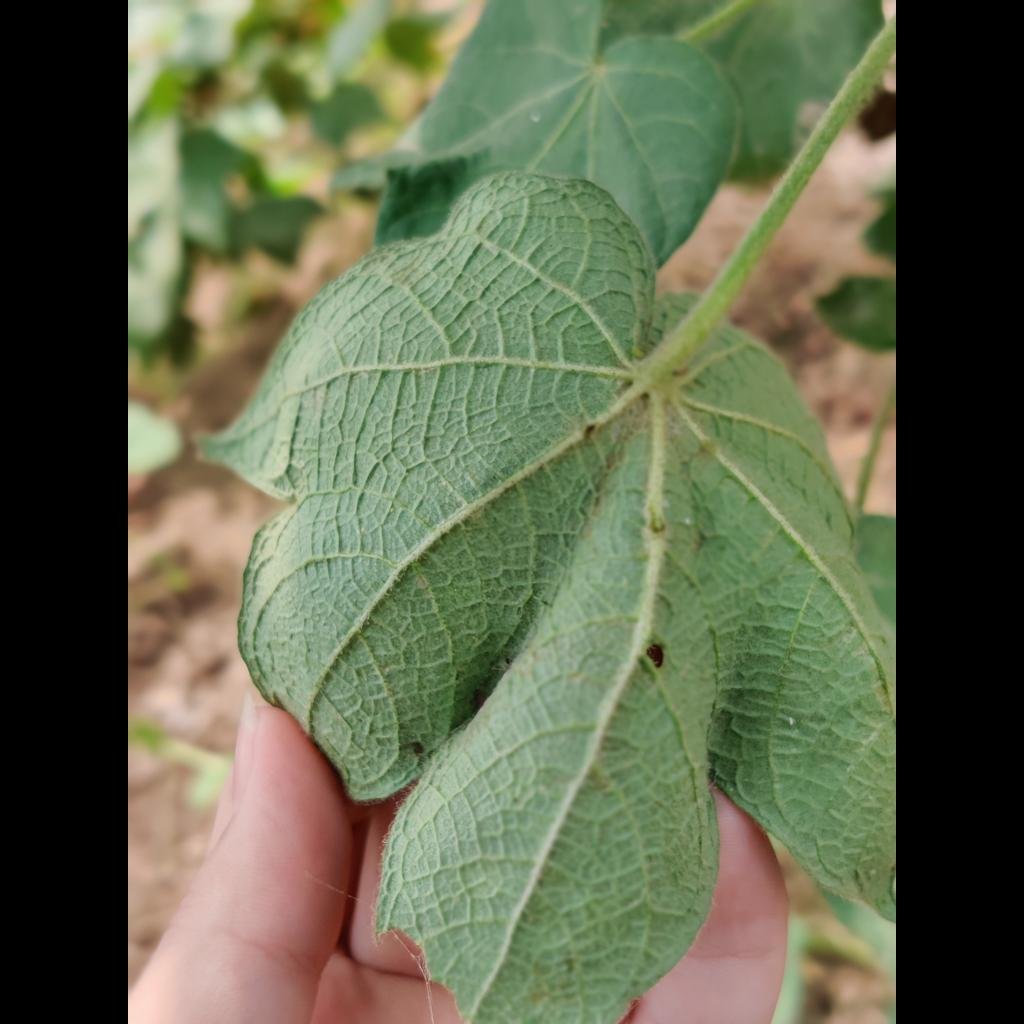nymph: (683, 516, 693, 526), (530, 115, 540, 124), (787, 716, 795, 726), (869, 868, 876, 876), (360, 527, 364, 533)
